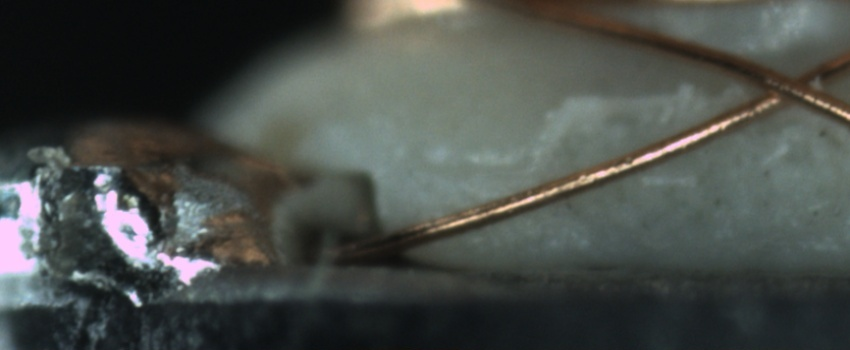CL: (737, 53, 841, 119)
DL: (429, 137, 534, 197)
